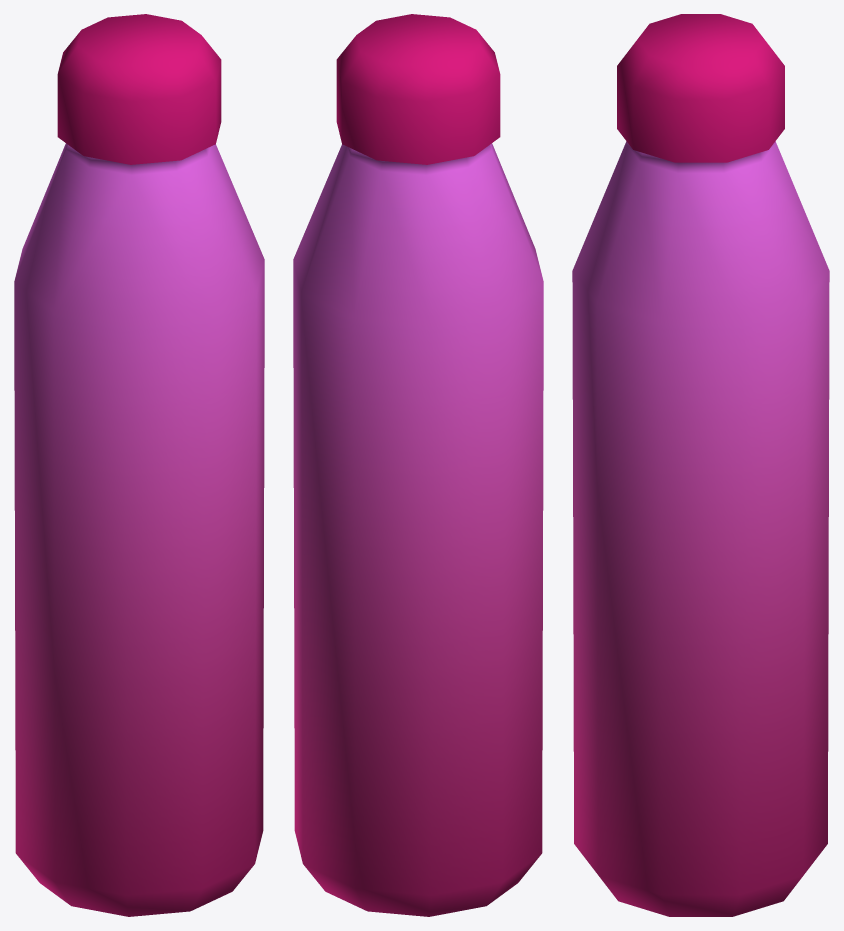
The model's file is bottle2_pink.fbx.
3 renders of one model, left to right at view 1: azimuth 30°, elevation 25°; view 2: azimuth 150°, elevation 25°; view 3: azimuth 270°, elevation 25°, orthographic.
Parts seen in each view (by area): view 1: bottle2_pink; view 2: bottle2_pink; view 3: bottle2_pink.
Boxes of the visible parts, box(x1,y1,x2,y2) form: bottle2_pink: box(14, 14, 264, 916); bottle2_pink: box(293, 14, 543, 916); bottle2_pink: box(572, 14, 829, 916).
Size of the model in its own units: 49.11 by 185 by 51.63.
